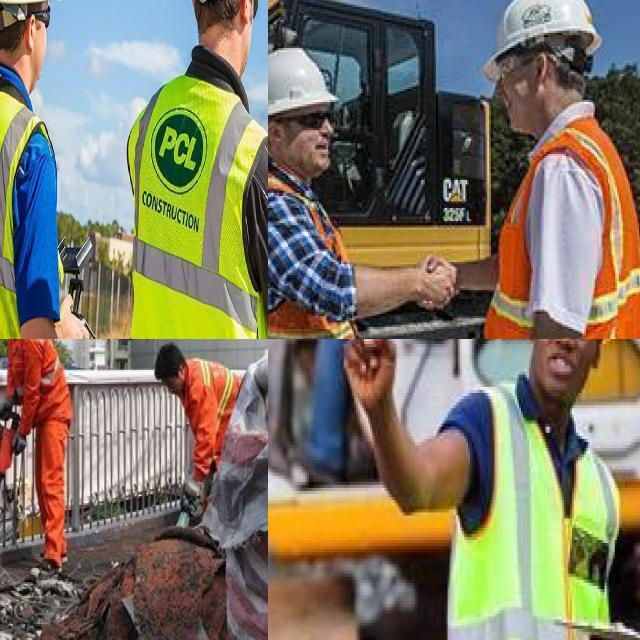face_nomask: (491, 52, 555, 137), (279, 102, 341, 182), (533, 339, 598, 393), (22, 1, 54, 94), (161, 372, 183, 406)
glasses: (292, 105, 341, 136)
hand_glove: (180, 473, 202, 517), (13, 424, 30, 459), (0, 394, 15, 422)
hand_noglove: (341, 339, 406, 408), (411, 249, 464, 325), (54, 295, 91, 339)
head_helmet: (479, 0, 602, 82), (268, 45, 341, 121)
head_nohelmet: (150, 339, 184, 373)
person: (477, 0, 639, 339), (451, 339, 614, 640), (151, 0, 268, 339), (268, 43, 372, 339), (0, 0, 59, 339), (302, 339, 449, 457), (0, 339, 71, 568), (158, 342, 236, 445), (24, 339, 58, 413)
vest: (453, 394, 616, 640), (133, 82, 268, 339), (505, 130, 640, 339), (268, 189, 356, 339), (0, 81, 47, 339), (194, 361, 233, 424)
